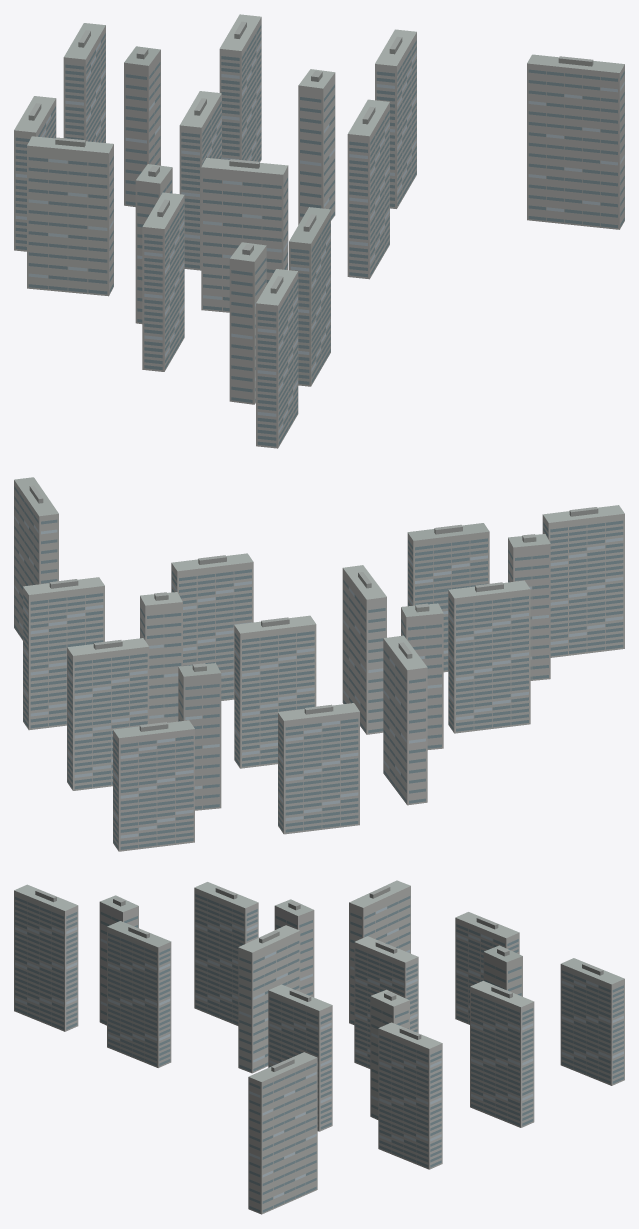
Rendered from apt-a14383205.glb.
The picture shows the model from 3 angles, top to bottom: view 1: azimuth 30°, elevation 25°; view 2: azimuth 150°, elevation 25°; view 3: azimuth 270°, elevation 25°; orthographic projection. The views are drawn at different scales.
Visible parts, largest first — view 1: apt-a14383205; view 2: apt-a14383205; view 3: apt-a14383205.
Part boxes in pixels (bbox=[...]): apt-a14383205: bbox=[14, 14, 624, 448]; apt-a14383205: bbox=[14, 477, 624, 851]; apt-a14383205: bbox=[14, 880, 624, 1214].
Size of the model in its own units: 275 by 82 by 333.
